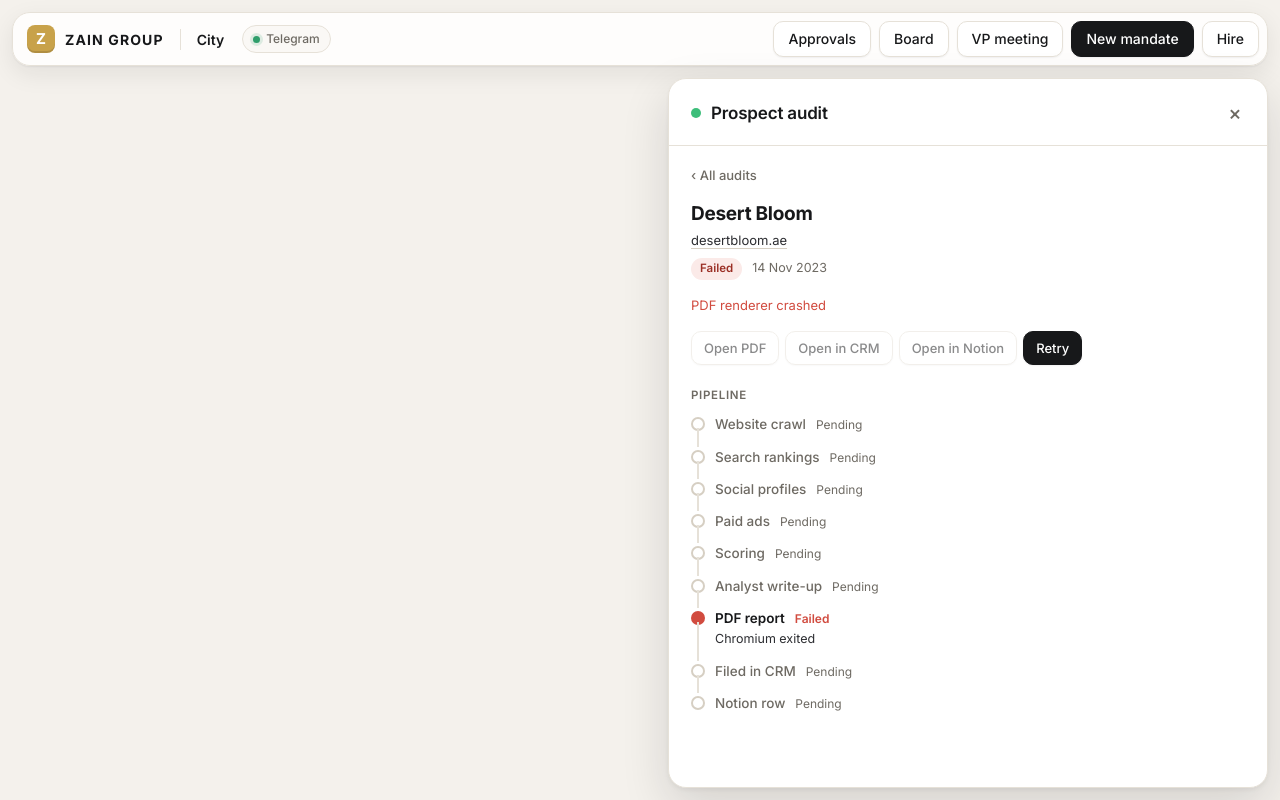
Audit detail › shows other errors plainly, and a retry failure
This screenshot has width=1280, height=800.
Check: the message reads "PDF renderer crashed", box x1=691 y1=296 x2=826 y2=312
Click the button "Retry" at (1053, 348), box x1=1023 y1=331 x2=1082 y2=365
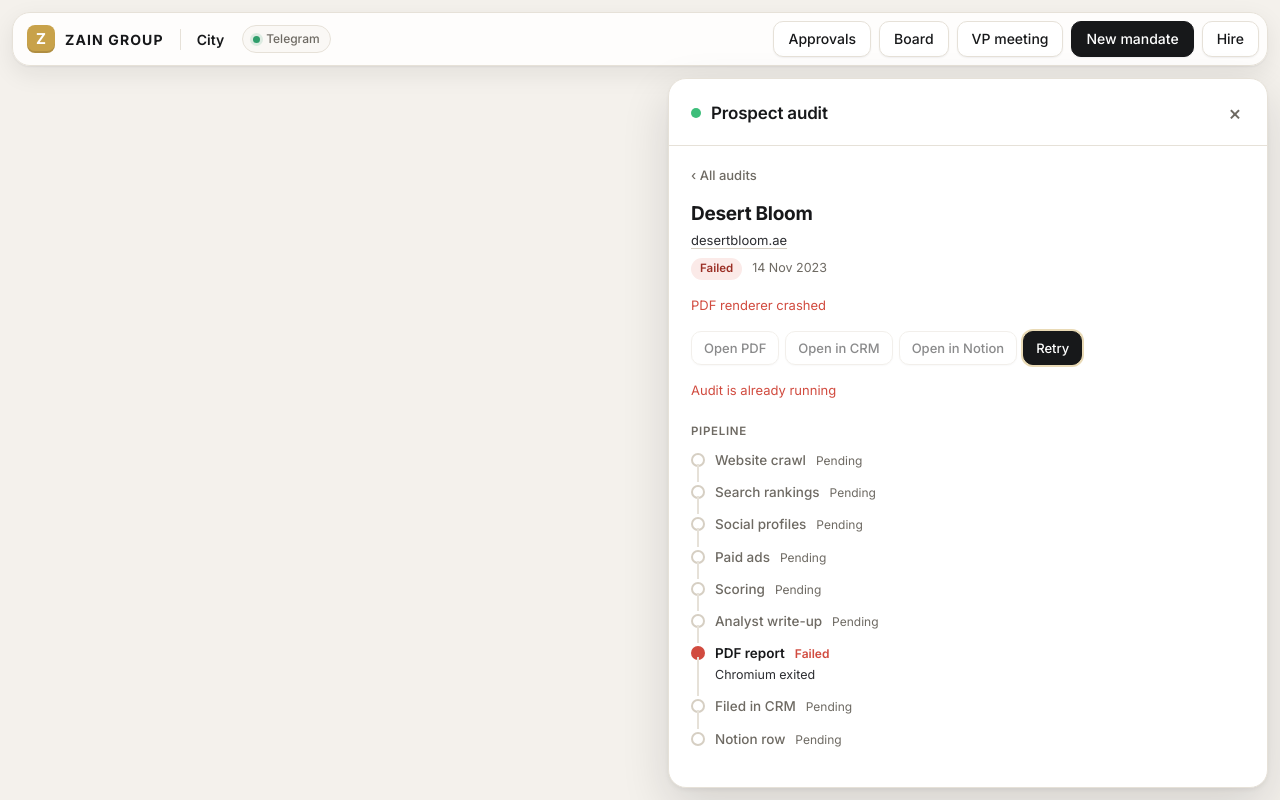
Check: the text "Audit is already running" is shown, box x1=691 y1=382 x2=836 y2=398
